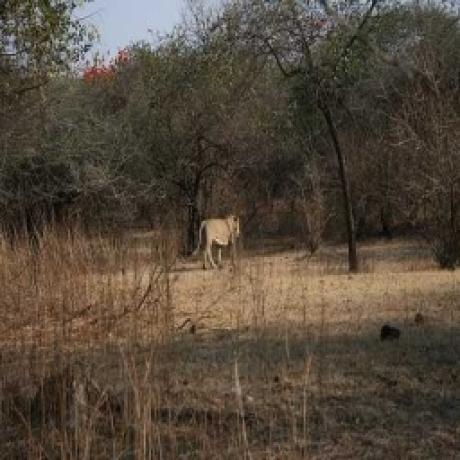Lion: (193, 211, 243, 273)
